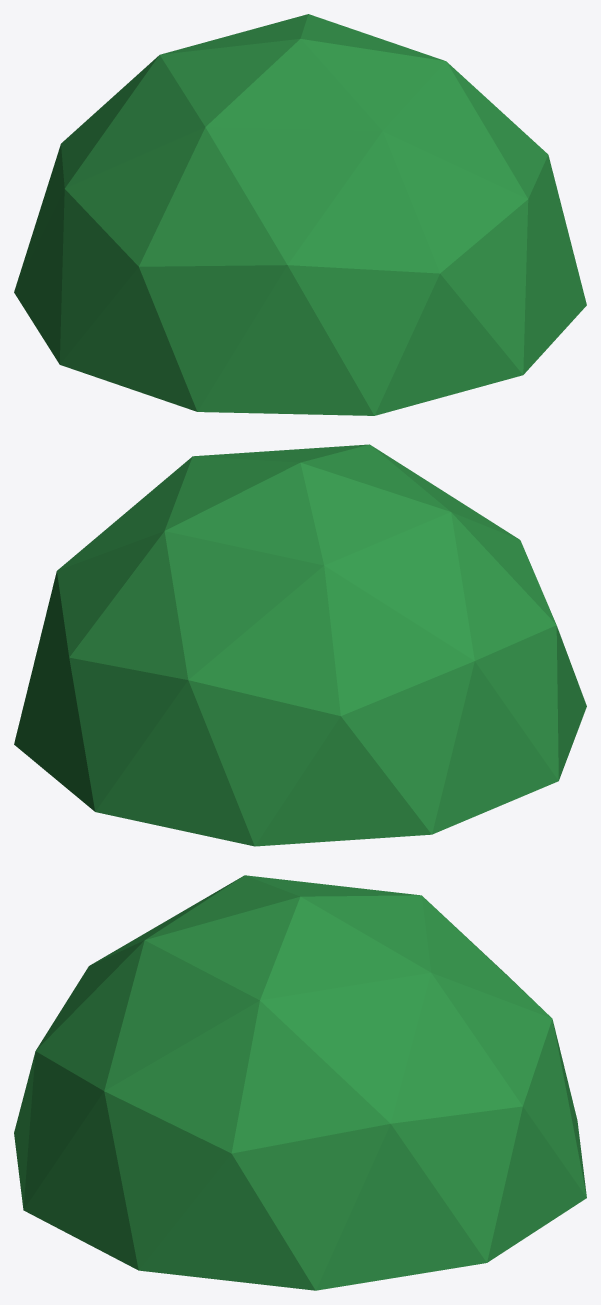
File: Bush_01.fbx
3 views of the same model, one above another, from view 1: azimuth 30°, elevation 25°; view 2: azimuth 150°, elevation 25°; view 3: azimuth 270°, elevation 25° (orthographic). The views are drawn at different scales.
Visible parts, largest first — view 1: Bush_01; view 2: Bush_01; view 3: Bush_01.
Part boxes in pixels (box(x1,y1,x2,y2)): Bush_01: box(14, 14, 586, 415); Bush_01: box(14, 444, 586, 846); Bush_01: box(14, 875, 586, 1290).
Size of the model in its own units: 605 by 303 by 585.
